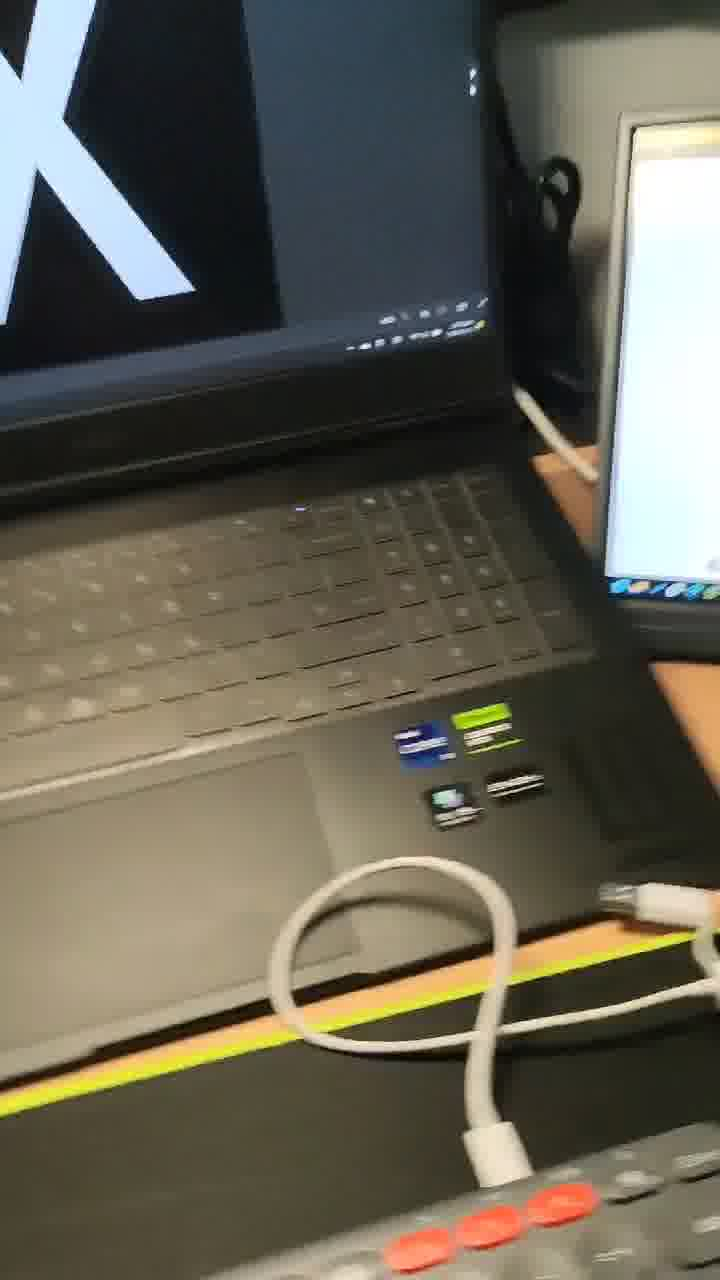X: (1, 1, 271, 388)
